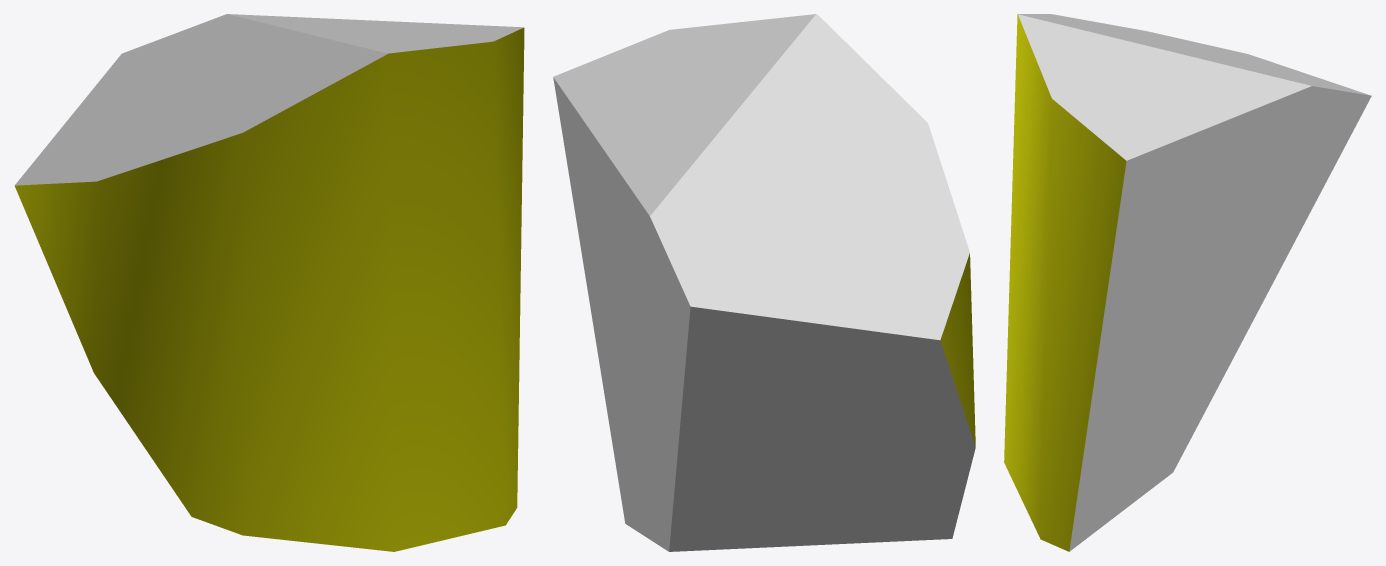
Rendered from mdl_ciudadela_casa_pilar1_fracturepart7.fbx.
3 views of the same model, side by side, from view 1: azimuth 30°, elevation 25°; view 2: azimuth 150°, elevation 25°; view 3: azimuth 270°, elevation 25° (orthographic). The views are drawn at different scales.
Visible parts, largest first — view 1: mdl_ciudadela_casa_pilar1_fracturepart7; view 2: mdl_ciudadela_casa_pilar1_fracturepart7; view 3: mdl_ciudadela_casa_pilar1_fracturepart7.
Part boxes in pixels (box(x1,y1,x2,y2)): mdl_ciudadela_casa_pilar1_fracturepart7: box(14, 14, 524, 551); mdl_ciudadela_casa_pilar1_fracturepart7: box(553, 14, 975, 551); mdl_ciudadela_casa_pilar1_fracturepart7: box(1004, 14, 1371, 551).
Size of the model in its own units: 0.667 by 0.7381 by 0.526.
